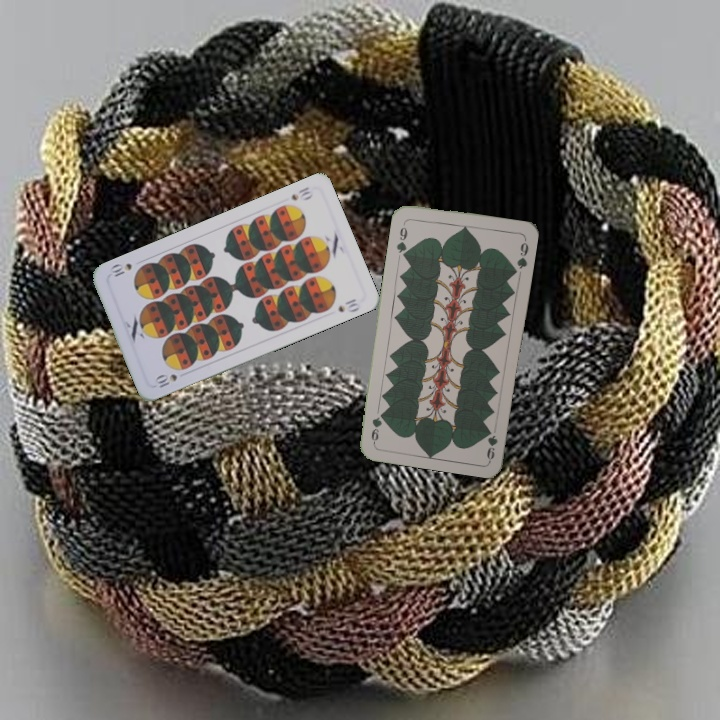G9: (393, 218, 410, 259), (482, 425, 500, 462)
S10: (151, 370, 180, 390), (287, 183, 316, 203)
